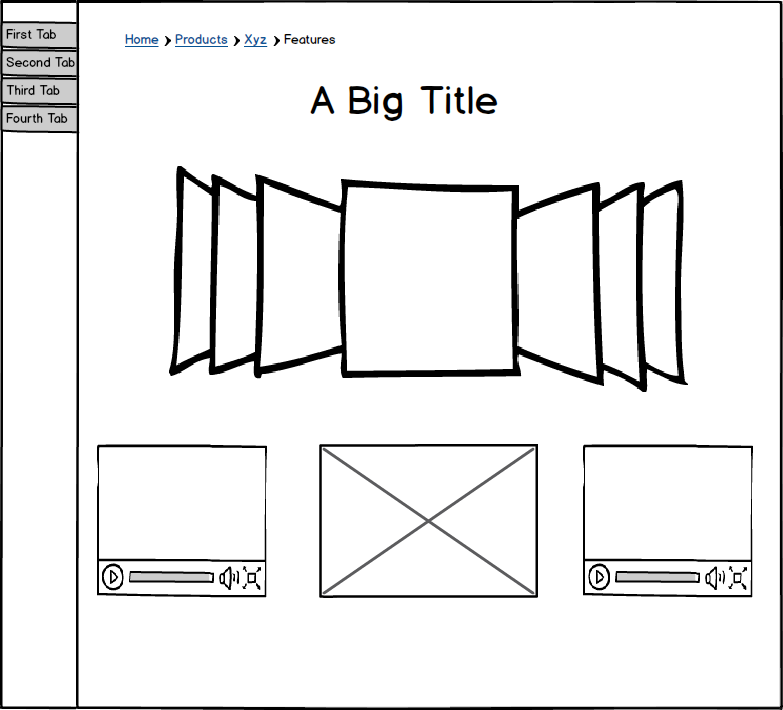h1: (305, 72, 506, 126), (118, 25, 337, 56)
image: (312, 440, 546, 601)
sidebar: (1, 16, 83, 139)
slideshow: (166, 158, 693, 400)
video: (575, 439, 761, 605), (90, 441, 274, 601)
